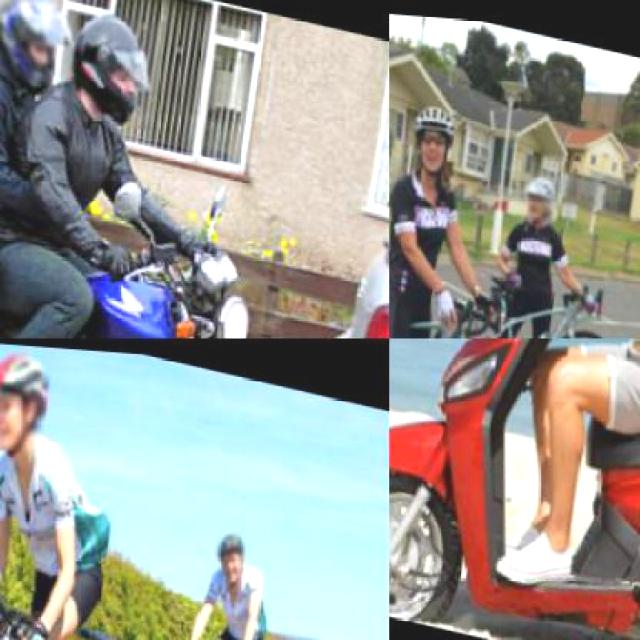With Helmet: (50, 0, 164, 128), (0, 338, 57, 457), (400, 85, 465, 181), (0, 0, 69, 88), (208, 517, 252, 588), (512, 161, 562, 222)
